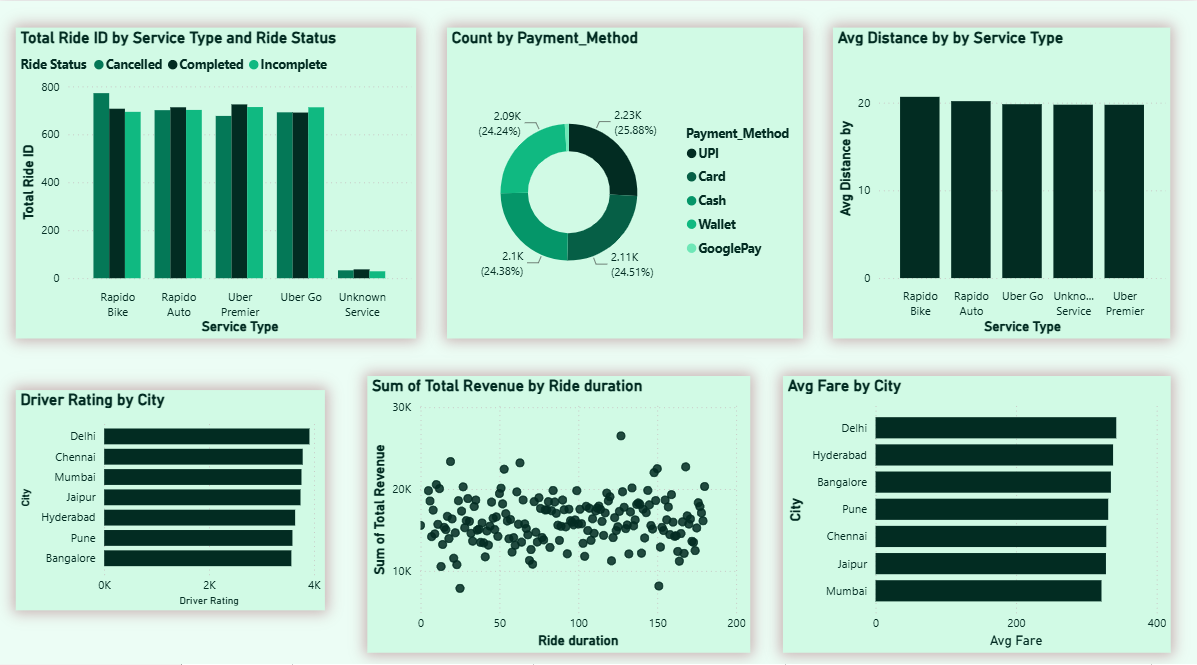

What the dashboard file says about the page in this screenshot:
{"tool":"powerbi","page":{"name":"2. Operations Analysis","canvas":[1280,720],"ordinal":2},"visuals":[{"type":"clusteredBarChart","fields":{"Category":["Sheet2.City"],"Y":["Sheet2.AVG_Fare"]},"box":[838.3,400,413.3,295],"z":0},{"type":"clusteredColumnChart","fields":{"Category":["Sheet2.Service_Type"],"Y":["Sheet2.AVG_Distance"]},"box":[892.1,28.2,359.8,331.6],"z":1000},{"type":"donutChart","fields":{"Category":["Sheet2.Payment_Method"],"Y":["CountNonNull(Sheet2.Payment_Method)"]},"box":[479.2,28.2,379.7,331.6],"z":2000},{"type":"scatterChart","fields":{"Y":["Sum(Sheet2.Fare_INR)"],"X":["Sheet2.Ride_Duration_Min"]},"box":[394.8,399.8,408.1,294.9],"z":3000},{"type":"clusteredBarChart","fields":{"Category":["Sheet2.City"],"Y":["Sum(Sheet2.Driver_Rating)"]},"box":[20,414.8,329.8,234.9],"z":4000},{"type":"clusteredColumnChart","fields":{"Category":["Sheet2.Service_Type"],"Series":["Sheet2.Ride_Status"],"Y":["CountNonNull(Sheet2.Ride_ID)"]},"box":[20,28.3,426.7,331.7],"z":5000}]}

Visuals, with their boxes in screenshot pixels (x1, y1, x2, y2), scaled from the page's 1280x720 canvas onto the 1197x665 screenshot:
clusteredBarChart - Sheet2.City x Sheet2.AVG_Fare: Rect(784, 369, 1170, 642)
clusteredColumnChart - Sheet2.Service_Type x Sheet2.AVG_Distance: Rect(834, 26, 1171, 332)
donutChart - Sheet2.Payment_Method x CountNonNull(Sheet2.Payment_Method): Rect(448, 26, 803, 332)
scatterChart - Sum(Sheet2.Fare_INR) x Sheet2.Ride_Duration_Min: Rect(369, 369, 751, 642)
clusteredBarChart - Sheet2.City x Sum(Sheet2.Driver_Rating): Rect(19, 383, 327, 600)
clusteredColumnChart - Sheet2.Service_Type x Sheet2.Ride_Status: Rect(19, 26, 418, 332)
